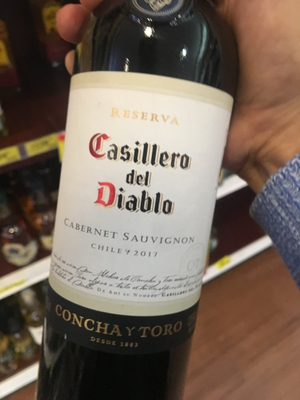casillero del diablo cabernet sauvignon: (44, 29, 238, 400)
